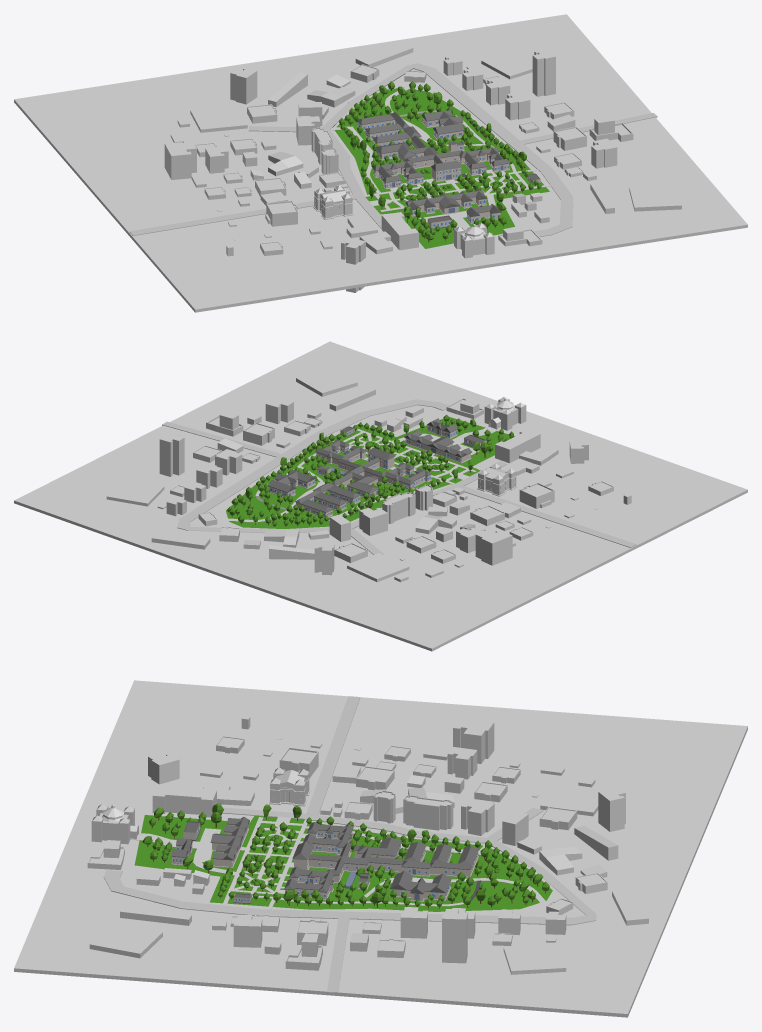
File: park.dae
3 renders of one model, top to bottom at view 1: azimuth 30°, elevation 25°; view 2: azimuth 150°, elevation 25°; view 3: azimuth 270°, elevation 25°, orthographic. The views are drawn at different scales.
Parts seen in each view (by area): view 1: Cube.15, Cube (×3), Polygon, Cube.1 (×2), Cube.2 (×2), tracks, Plane.5 (×2), Plane.9_5.1 (×2), Plane (×2), Plane.1, Cube.21_10.2, Cube.21_10 (+16 smaller); view 2: Cube.15, Polygon, Cube, Cube.2 (×2), Plane.5 (×2), tracks, Cube.1, Plane (×2), Plane.9_3, Cube.21_10.2, Plane.1, Cube.21_10 (+14 smaller); view 3: Cube.15, Polygon, Cube (×2), Cube.2 (×2), tracks, Plane.5 (×2), Cube.1, Plane (×2), Plane.9_5.1 (×2), Cube.21_10.2, Plane.6, Cube.21_10.1 (+19 smaller).
Boxes of the visible parts, x1=… form: Cube.15: x1=14, y1=14, x2=747, y2=312; Cube (×3): x1=129, y1=63, x2=657, y2=238; Polygon: x1=335, y1=87, x2=549, y2=248; Cube.1 (×2): x1=359, y1=147, x2=509, y2=254; Cube.2 (×2): x1=355, y1=42, x2=442, y2=164; tracks: x1=330, y1=87, x2=550, y2=230; Plane.5 (×2): x1=313, y1=185, x2=494, y2=258; Plane.9_5.1 (×2): x1=230, y1=67, x2=365, y2=292; Plane (×2): x1=296, y1=110, x2=464, y2=145; Plane.1: x1=405, y1=189, x2=487, y2=216; Cube.21_10.2: x1=629, y1=185, x2=681, y2=211; Cube.21_10: x1=190, y1=105, x2=247, y2=132; Cube.15: x1=14, y1=341, x2=747, y2=651; Polygon: x1=226, y1=417, x2=514, y2=528; Cube: x1=162, y1=399, x2=636, y2=554; Cube.2 (×2): x1=151, y1=457, x2=379, y2=549; Plane.5 (×2): x1=477, y1=396, x2=526, y2=496; tracks: x1=227, y1=426, x2=500, y2=522; Cube.1: x1=315, y1=439, x2=431, y2=490; Plane (×2): x1=267, y1=469, x2=387, y2=535; Plane.9_3: x1=475, y1=529, x2=512, y2=565; Cube.21_10.2: x1=296, y1=367, x2=357, y2=396; Plane.1: x1=404, y1=430, x2=471, y2=463; Cube.21_10: x1=347, y1=553, x2=409, y2=582; Cube.15: x1=14, y1=680, x2=747, y2=1017; Polygon: x1=134, y1=815, x2=552, y2=911; Cube (×2): x1=103, y1=696, x2=596, y2=993; Cube.2 (×2): x1=309, y1=838, x2=648, y2=925; tracks: x1=130, y1=816, x2=545, y2=909; Plane.5 (×2): x1=91, y1=767, x2=310, y2=844; Cube.1: x1=284, y1=822, x2=353, y2=900; Plane (×2): x1=390, y1=799, x2=494, y2=901; Plane.9_5.1 (×2): x1=148, y1=753, x2=625, y2=831; Cube.21_10.2: x1=89, y1=922, x2=162, y2=958; Plane.6: x1=152, y1=785, x2=216, y2=817; Cube.21_10.1: x1=503, y1=944, x2=566, y2=974.
Size of the model in its own units: 5754 by 673 by 5348.
